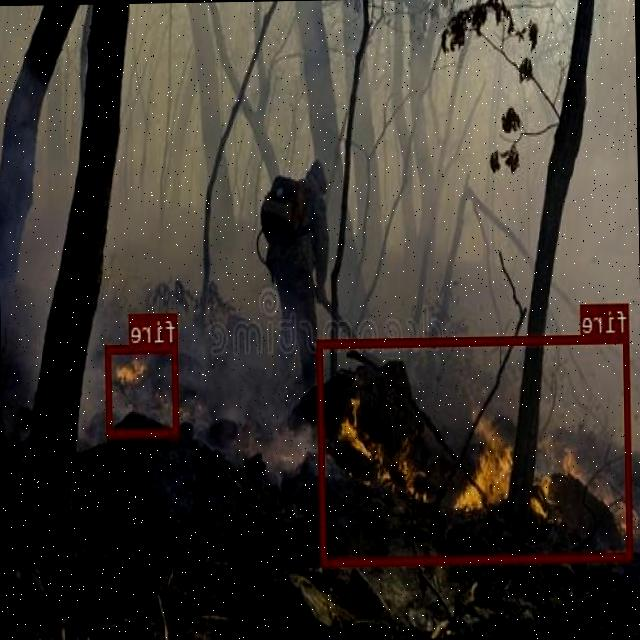fire: (318, 333, 634, 564), (105, 342, 180, 436)
